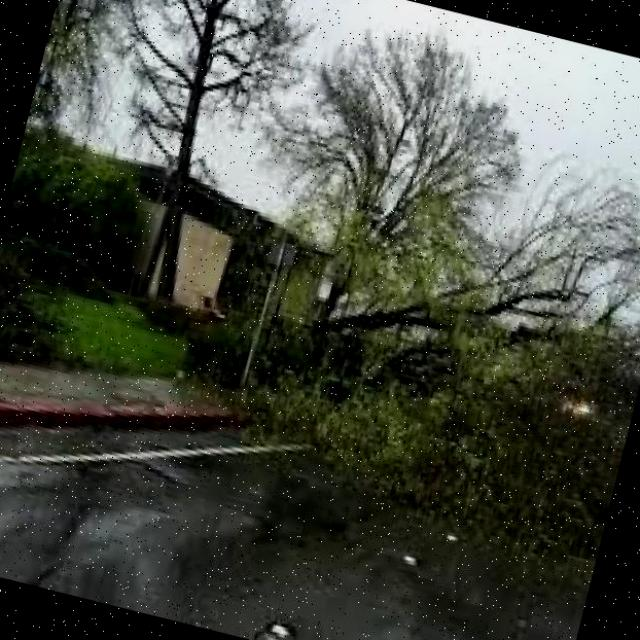fallen_object: (271, 236, 640, 502)
